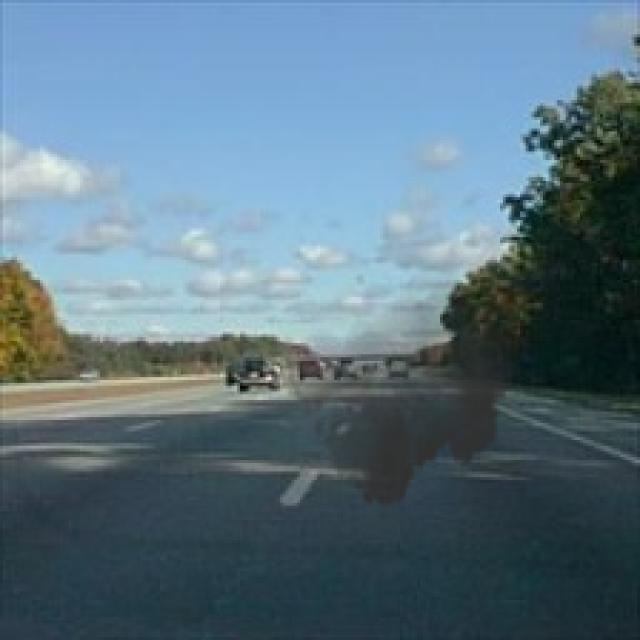smoke: (280, 260, 520, 517)
